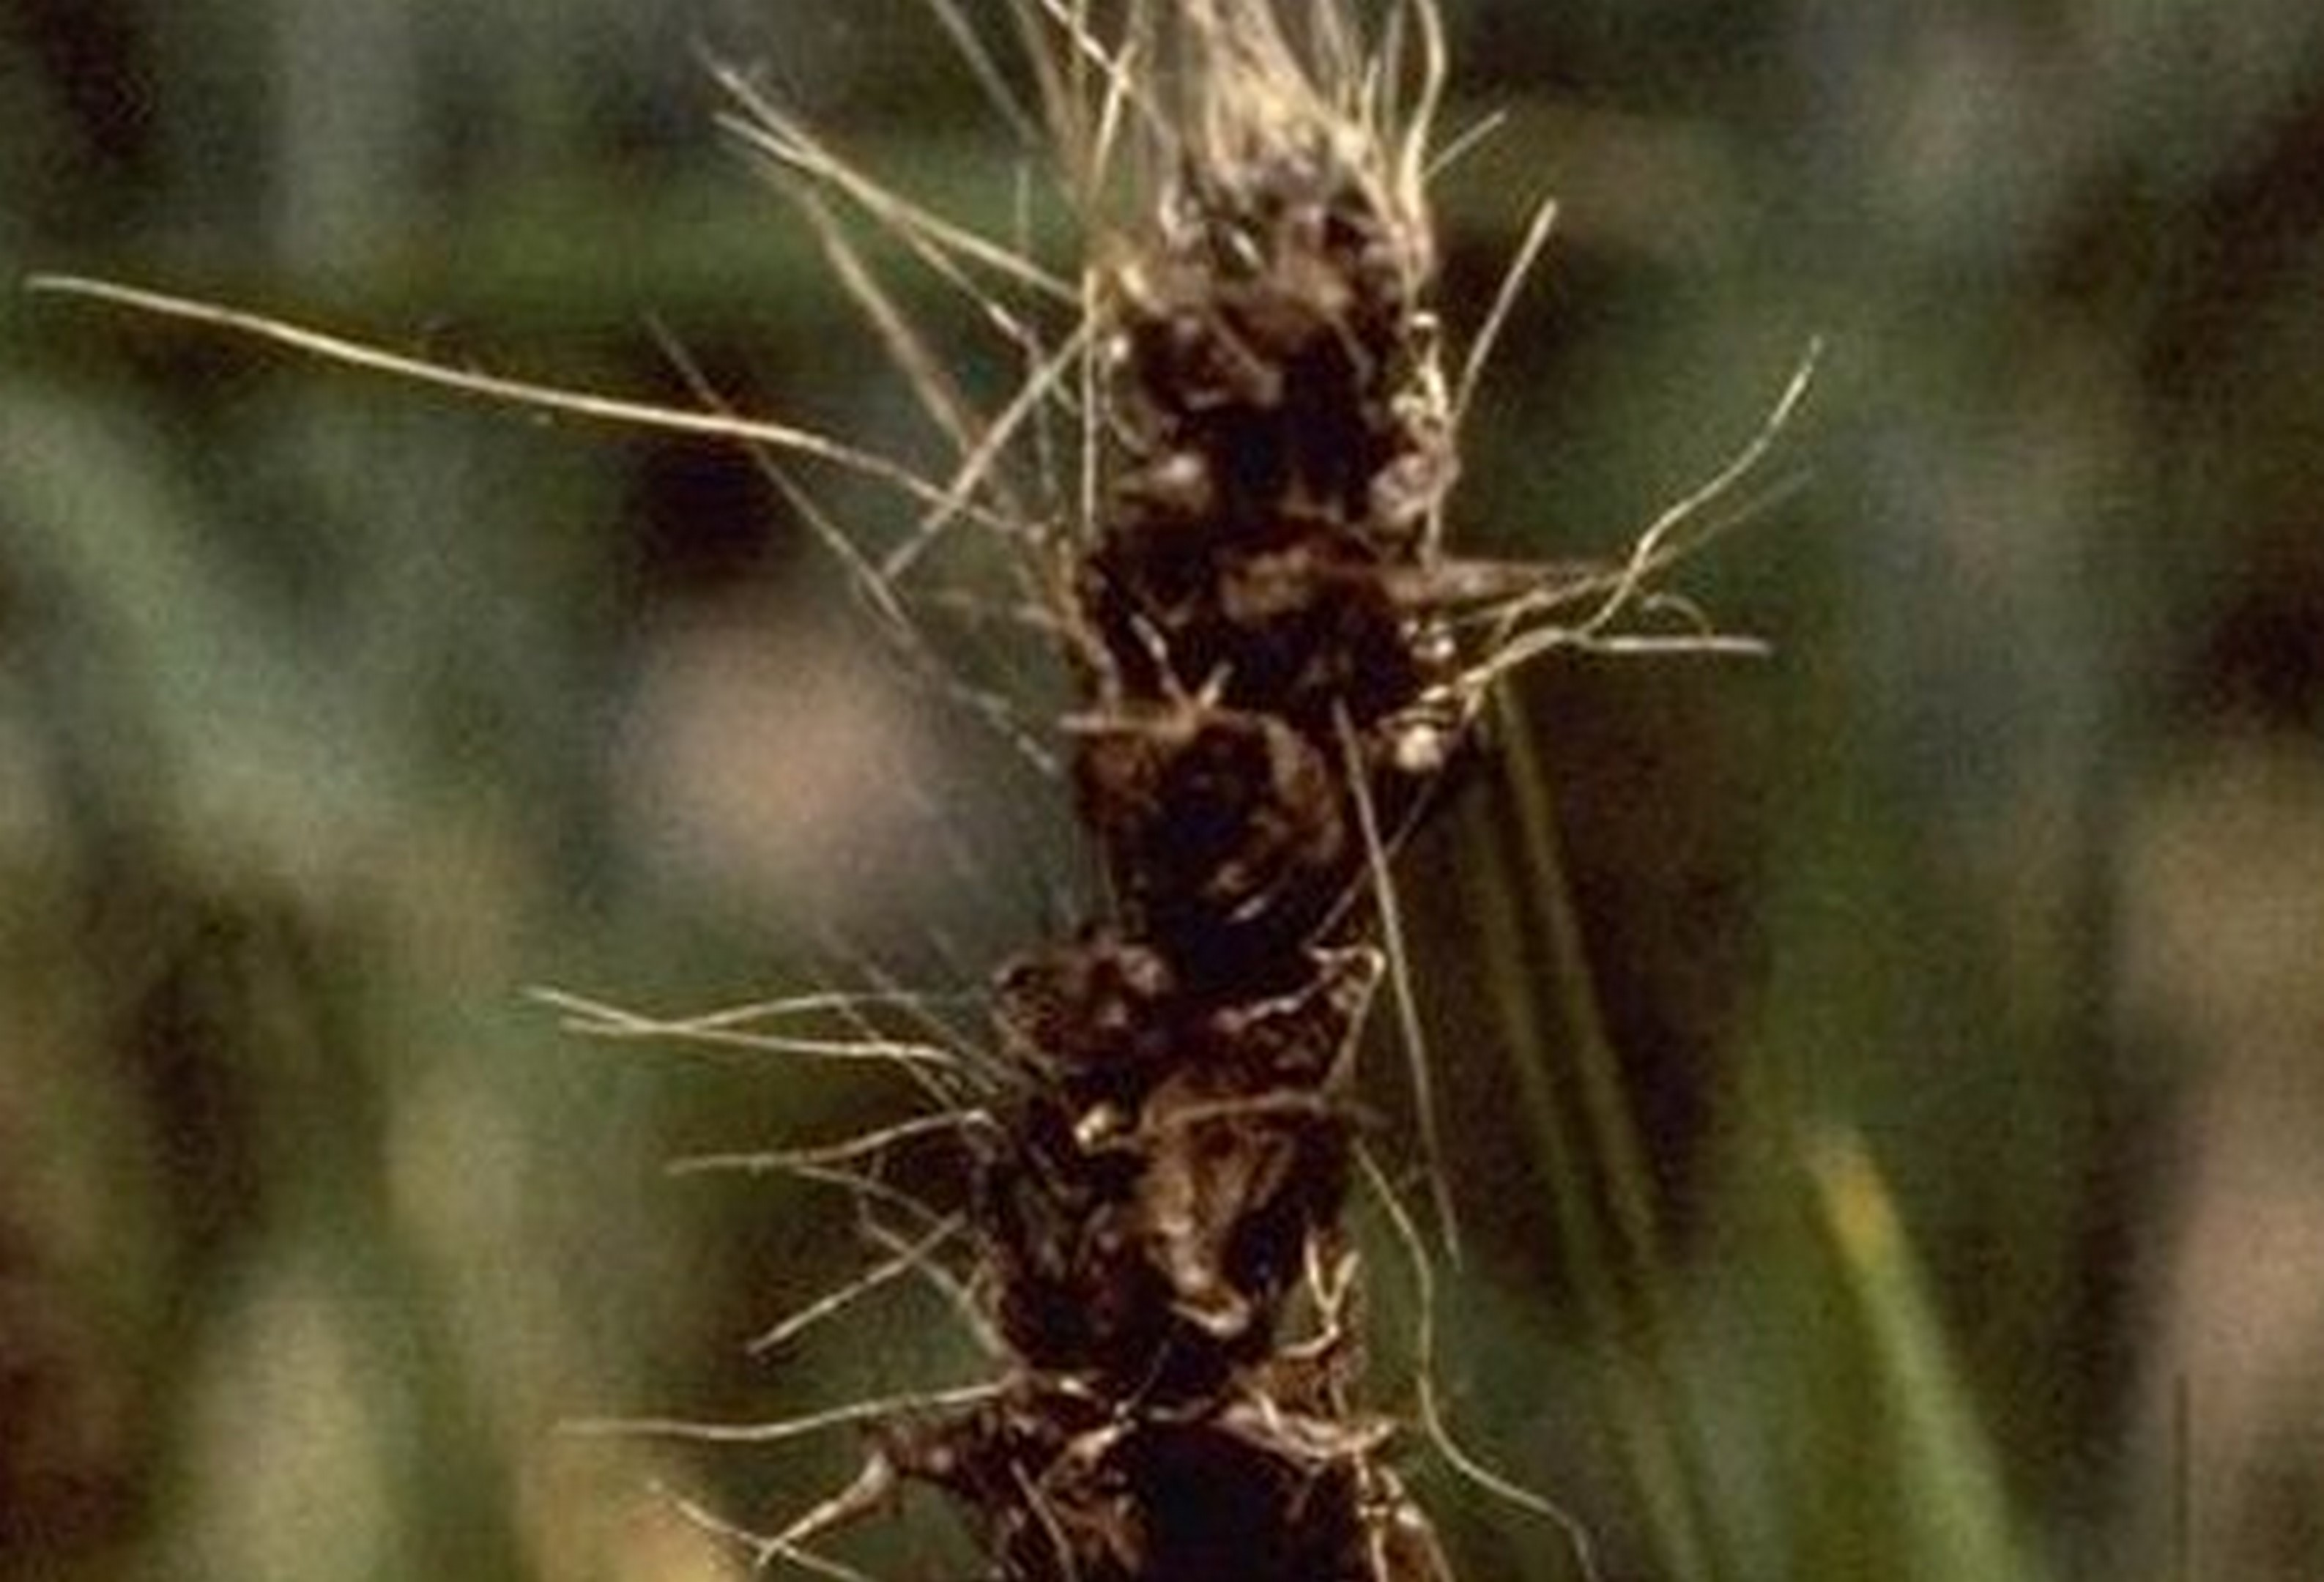Wheat Loose Smut: (906, 99, 1528, 1577)
